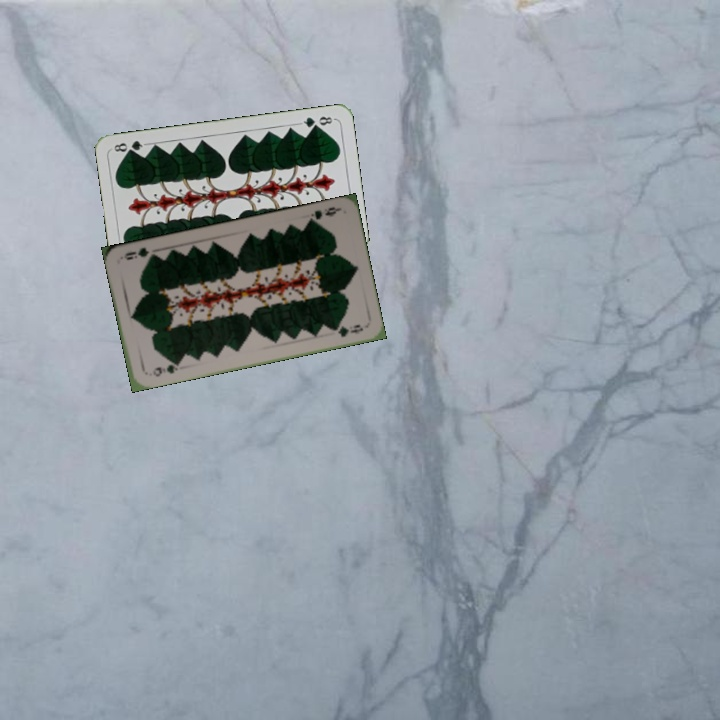G8: (296, 112, 337, 131)
G9: (304, 203, 342, 226), (149, 358, 182, 379)
